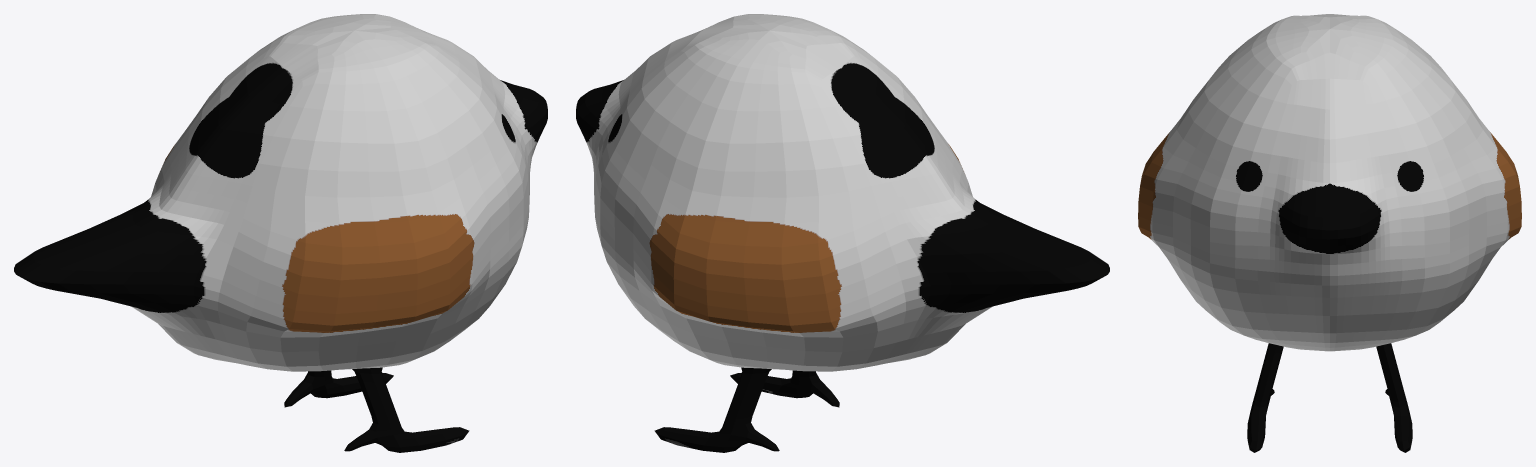
The model's file is bird.glb.
3 views of the same model, side by side, from view 1: azimuth 30°, elevation 25°; view 2: azimuth 150°, elevation 25°; view 3: azimuth 270°, elevation 25° (orthographic).
Parts seen in each view (by area): view 1: 球; view 2: 球; view 3: 球.
Part boxes in pixels (bbox=[...]): 球: bbox=[14, 14, 547, 452]; 球: bbox=[576, 14, 1109, 452]; 球: bbox=[1138, 14, 1521, 452].
Bounding box in the file's own units: 3.3 × 2.39 × 2.12.
1 material, 1 textured.
